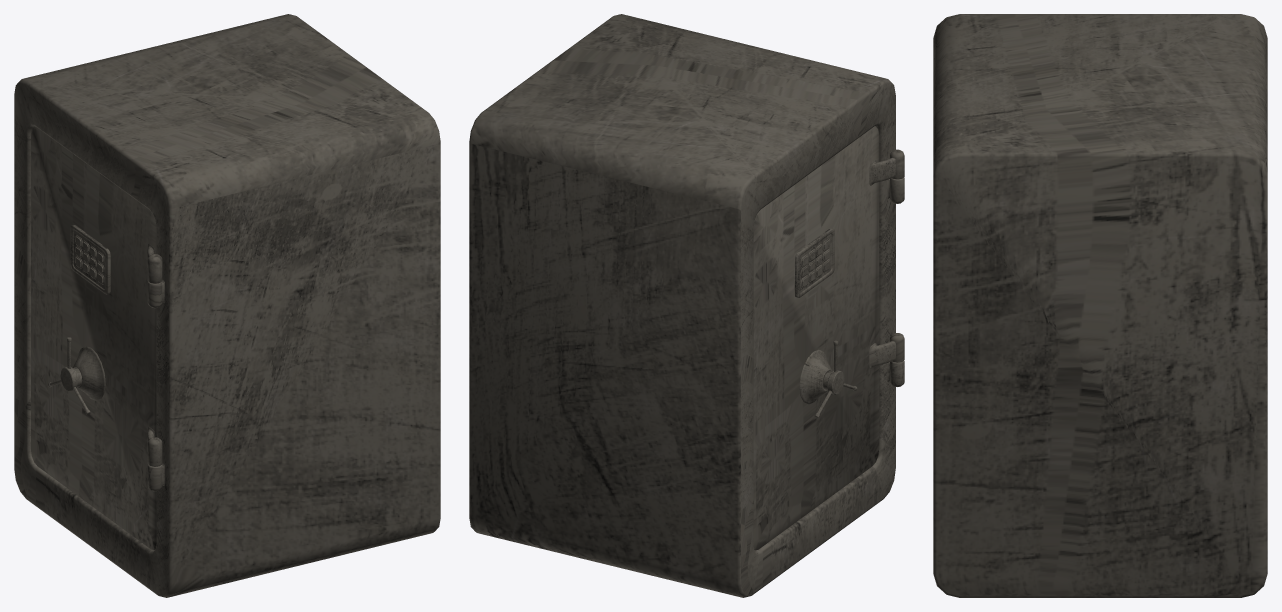
File: safe1.fbx
3 views of the same model, side by side, from view 1: azimuth 30°, elevation 25°; view 2: azimuth 150°, elevation 25°; view 3: azimuth 270°, elevation 25° (orthographic). The views are drawn at different scales.
Visible parts, largest first — view 1: Plane, Circle.002, Circle; view 2: Plane, Circle.002, Circle; view 3: Plane.
Boxes of the visible parts, x1,y1,x2,y2 form: Plane: [14, 14, 440, 597]; Circle.002: [31, 126, 162, 550]; Circle: [48, 337, 90, 414]; Plane: [469, 14, 904, 597]; Circle.002: [753, 126, 904, 550]; Circle: [814, 340, 857, 418]; Plane: [933, 14, 1267, 597].
Bounding box in the file's own units: 217 × 294 × 200.
